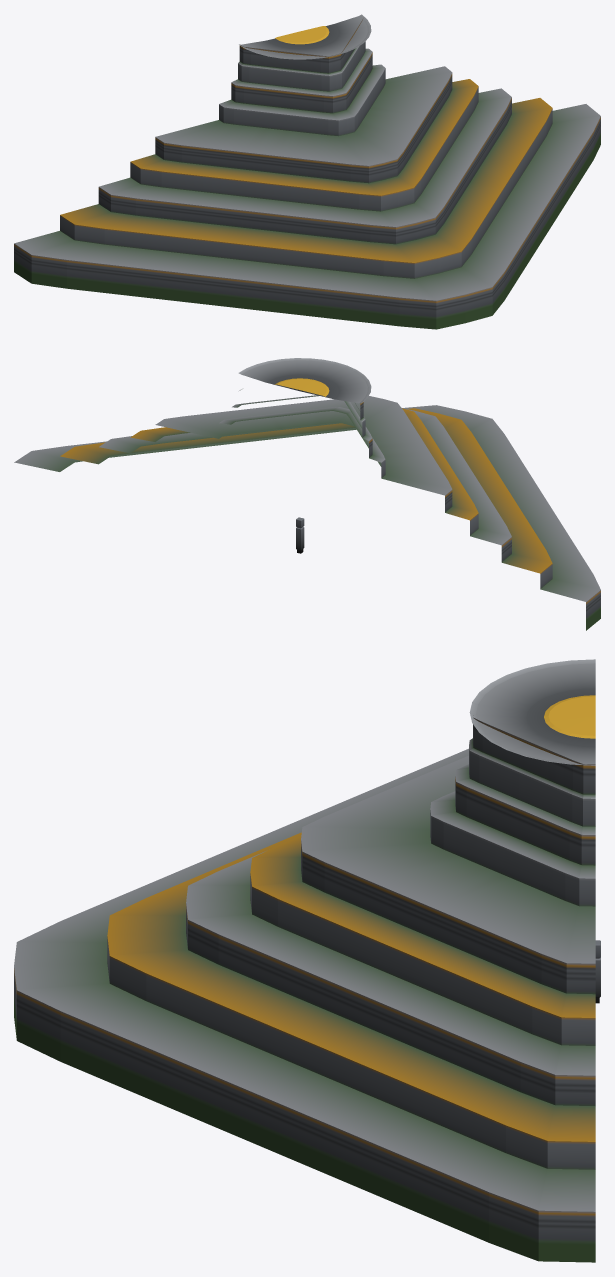
File: temple-s2-BN3f2YZW.glb
3 renders of one model, top to bottom at view 1: azimuth 30°, elevation 25°; view 2: azimuth 150°, elevation 25°; view 3: azimuth 270°, elevation 25°, orthographic. The views are drawn at different scales.
Parts seen in each view (by area): view 1: sc_landmark_1; view 2: sc_landmark_1; view 3: sc_landmark_1.
Part boxes in pixels (box(x1,y1,x2,y2)): sc_landmark_1: box(14, 14, 600, 329); sc_landmark_1: box(14, 358, 600, 630); sc_landmark_1: box(14, 659, 595, 1262).
Bounding box in the file's own units: 758 × 219 × 383.
